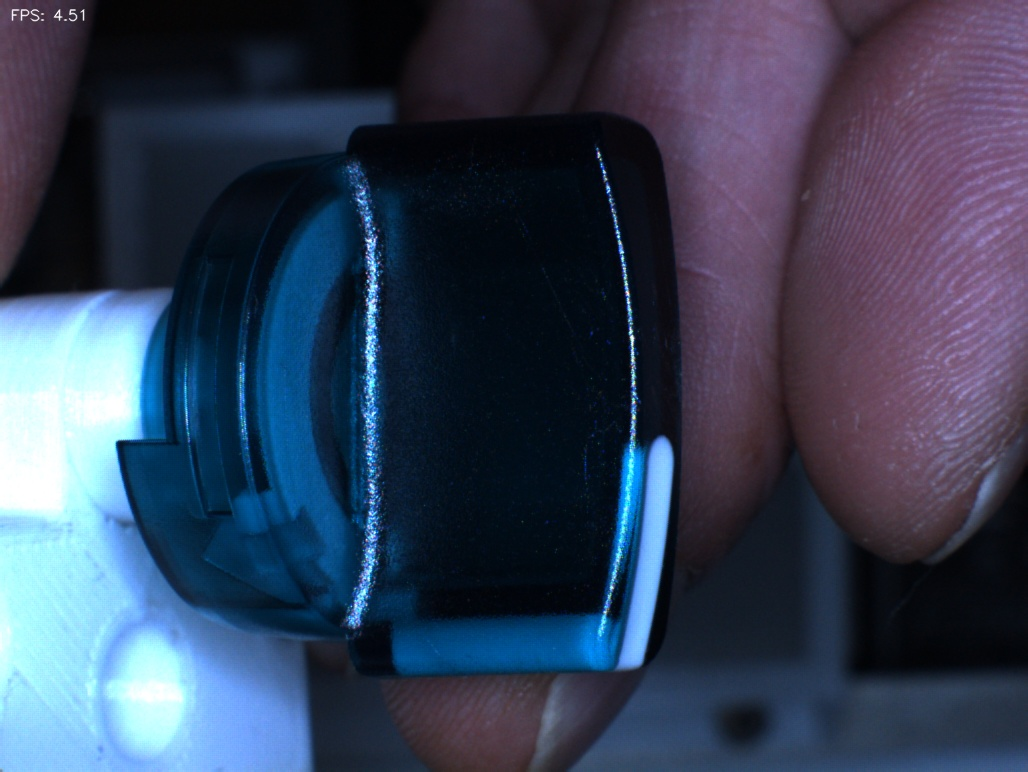Givrage: (508, 210, 629, 443)
